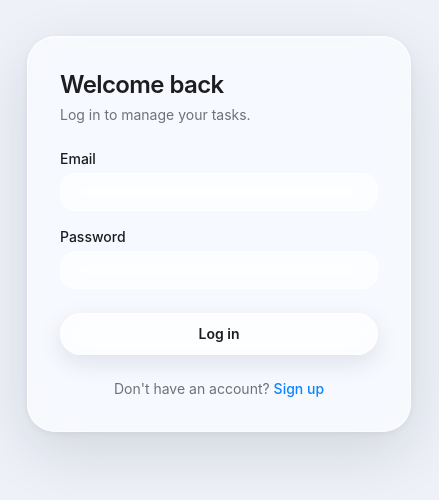
LoginPage › shows required-field errors when submitting an empty form
Click the button "Log in": (219, 334) [60,313,378,355]
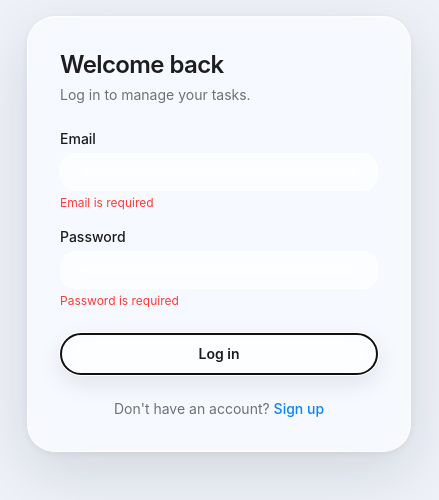
Expected: the text "Email is required" is shown, [60,195,154,210]
Expected: the text "Password is required" is shown, [60,293,179,308]
